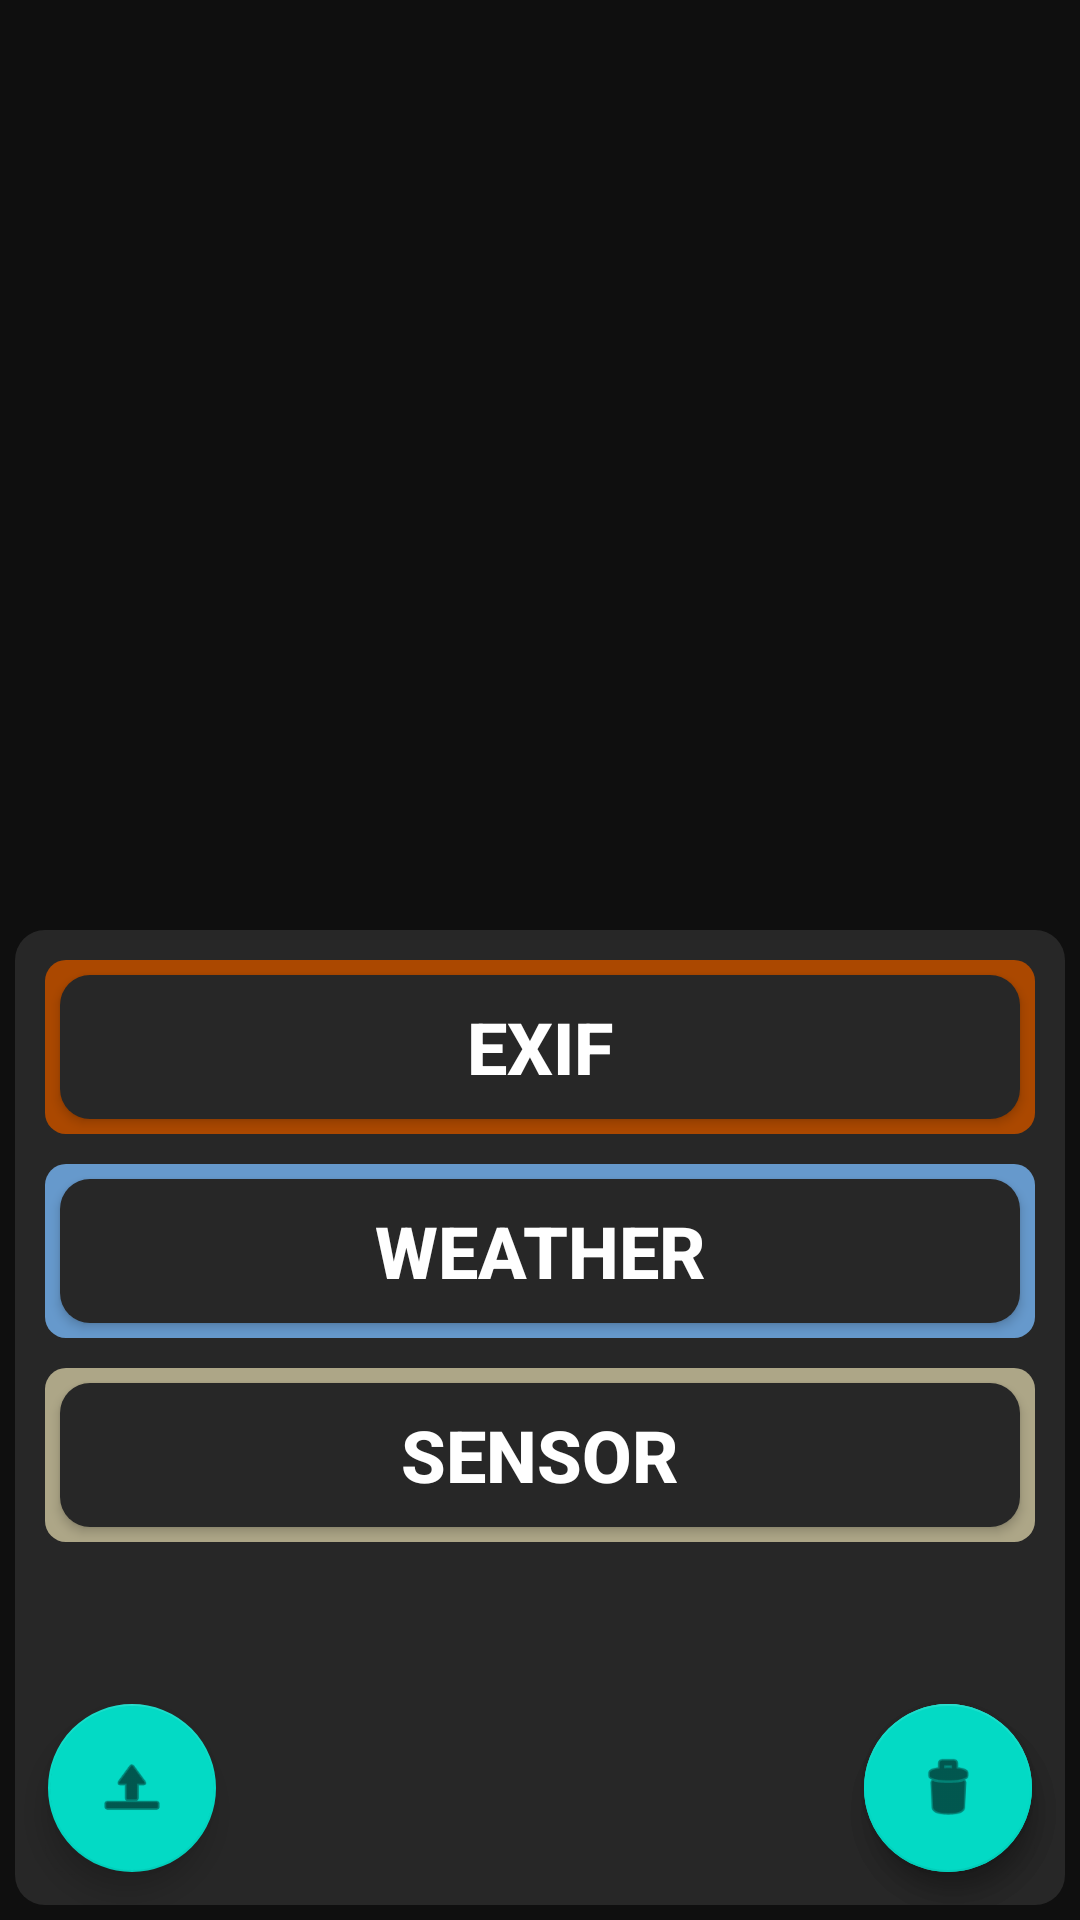

Icons on this 1080w x 1920h Android screen, each with the point to tap as (x=x, y=y):
upload: (x=132, y=1788)
